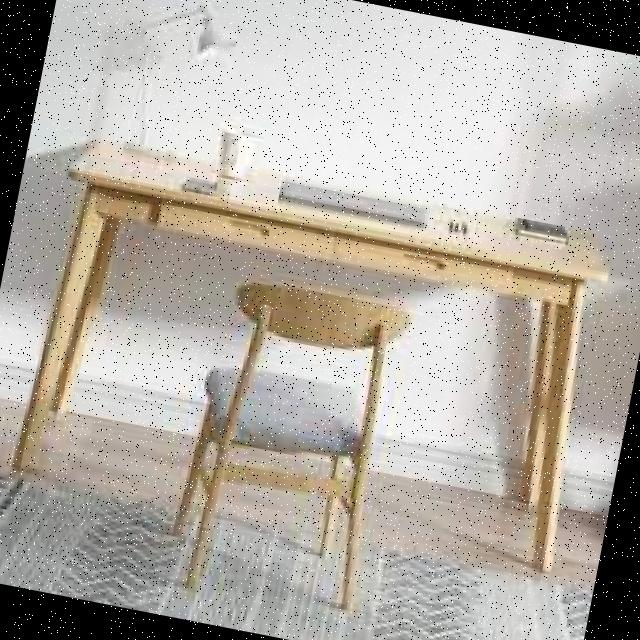Table: (0, 103, 635, 594)
